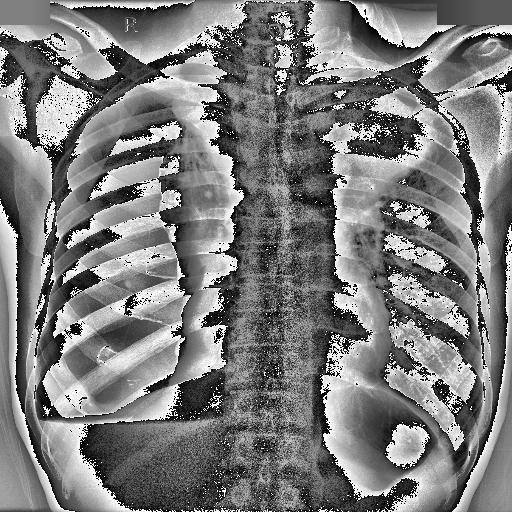10- Pleural effusion: (34, 417, 232, 475), (36, 414, 101, 438), (30, 418, 56, 436)
11- Pleural thickening: (36, 414, 101, 438), (30, 418, 56, 436)
12- Pneumothorax: (25, 59, 243, 426), (37, 53, 242, 417), (44, 56, 248, 420)
7- Lung Opacity: (324, 80, 436, 190), (154, 148, 232, 284), (338, 87, 436, 182), (179, 70, 264, 169)
8- Nodule-Mass: (324, 80, 436, 190), (340, 82, 440, 182), (338, 87, 436, 182)
9- Other lesion: (156, 81, 239, 287)
